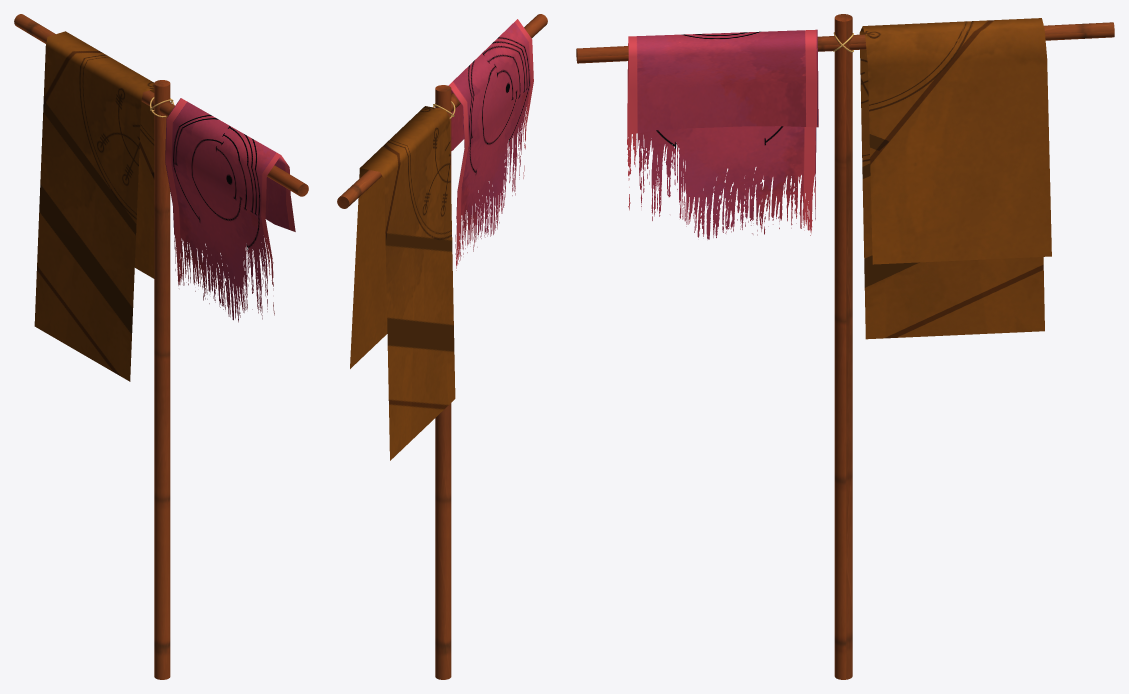
Rendered from drapeau2.fbx.
3 renders of one model, left to right at view 1: azimuth 30°, elevation 25°; view 2: azimuth 150°, elevation 25°; view 3: azimuth 270°, elevation 25°, orthographic. The views are drawn at different scales.
Parts seen in each view (by area): view 1: polySurface516, polySurface515, polySurface511, polySurface512; view 2: polySurface516, polySurface515, polySurface511, polySurface512; view 3: polySurface516, polySurface515, polySurface511, polySurface512.
Boxes of the visible parts, bbox=[...] form: polySurface516: bbox=[34, 31, 154, 381]; polySurface515: bbox=[165, 98, 295, 322]; polySurface511: bbox=[154, 80, 170, 679]; polySurface512: bbox=[14, 14, 308, 196]; polySurface516: bbox=[350, 106, 455, 460]; polySurface515: bbox=[448, 19, 533, 270]; polySurface511: bbox=[435, 85, 451, 679]; polySurface512: bbox=[337, 14, 547, 208]; polySurface516: bbox=[859, 18, 1051, 339]; polySurface515: bbox=[627, 29, 818, 239]; polySurface511: bbox=[834, 14, 852, 679]; polySurface512: bbox=[576, 22, 1114, 63].
Size of the model in its own units: 1.75 by 13.4 by 9.93.
